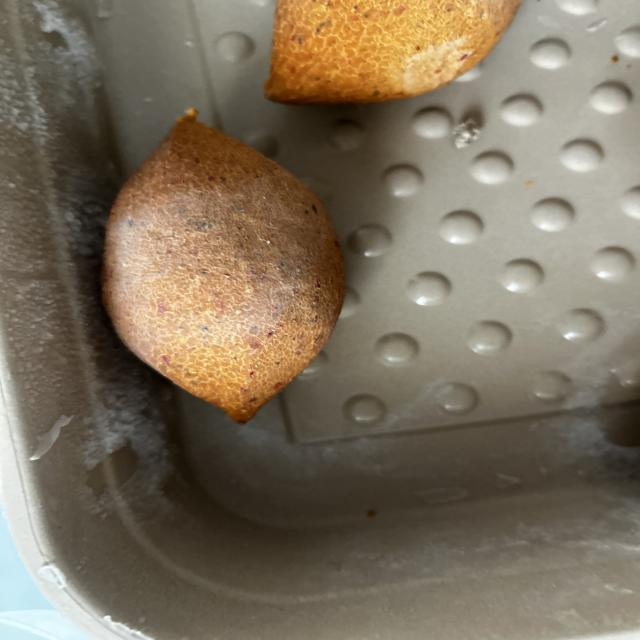kobi: (100, 107, 346, 425), (262, 0, 521, 105)
